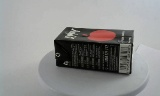appy: (49, 26, 126, 75)
